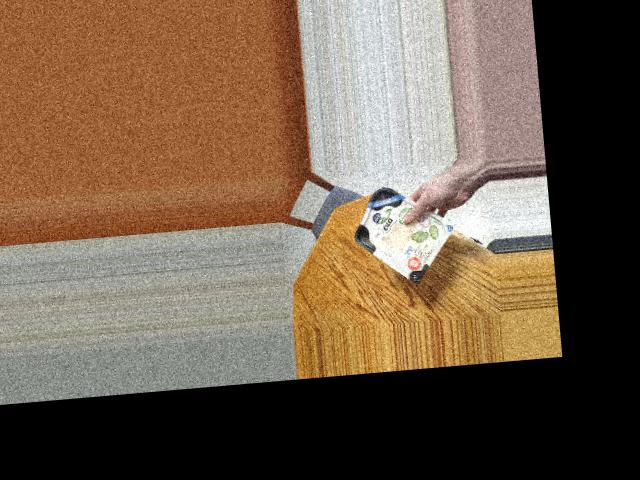cheese: (350, 180, 441, 280)
